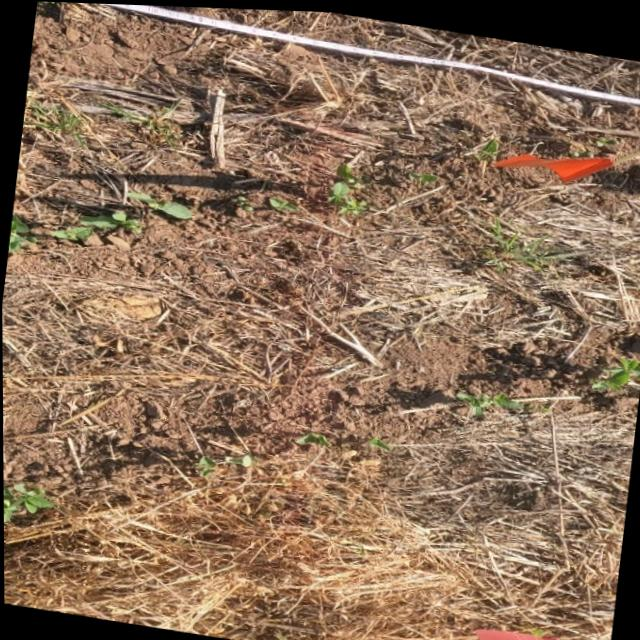grassy_weed: (484, 212, 572, 267), (119, 95, 200, 149), (23, 90, 82, 141), (139, 152, 159, 168)
soy_plant: (50, 209, 141, 240), (327, 161, 368, 211), (3, 482, 51, 522), (591, 352, 640, 385), (455, 388, 523, 411), (8, 213, 42, 250), (477, 133, 499, 156), (194, 452, 215, 474), (295, 428, 330, 441), (269, 195, 297, 208), (409, 168, 437, 179), (369, 434, 390, 448)
